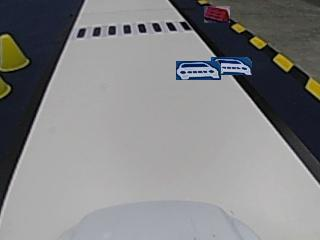crosswalk: (74, 21, 189, 38)
